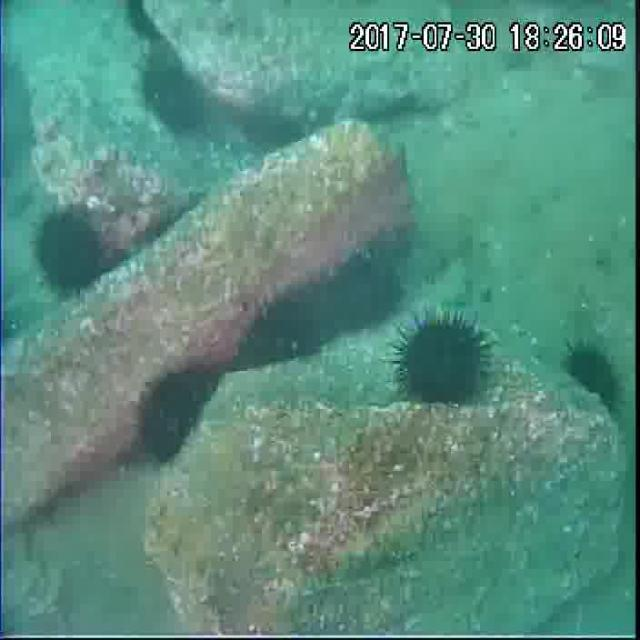echinus: (128, 369, 221, 462), (396, 312, 489, 404), (241, 290, 326, 371), (34, 207, 104, 296), (323, 250, 402, 327), (141, 58, 209, 132), (564, 338, 622, 413), (118, 0, 168, 48)
